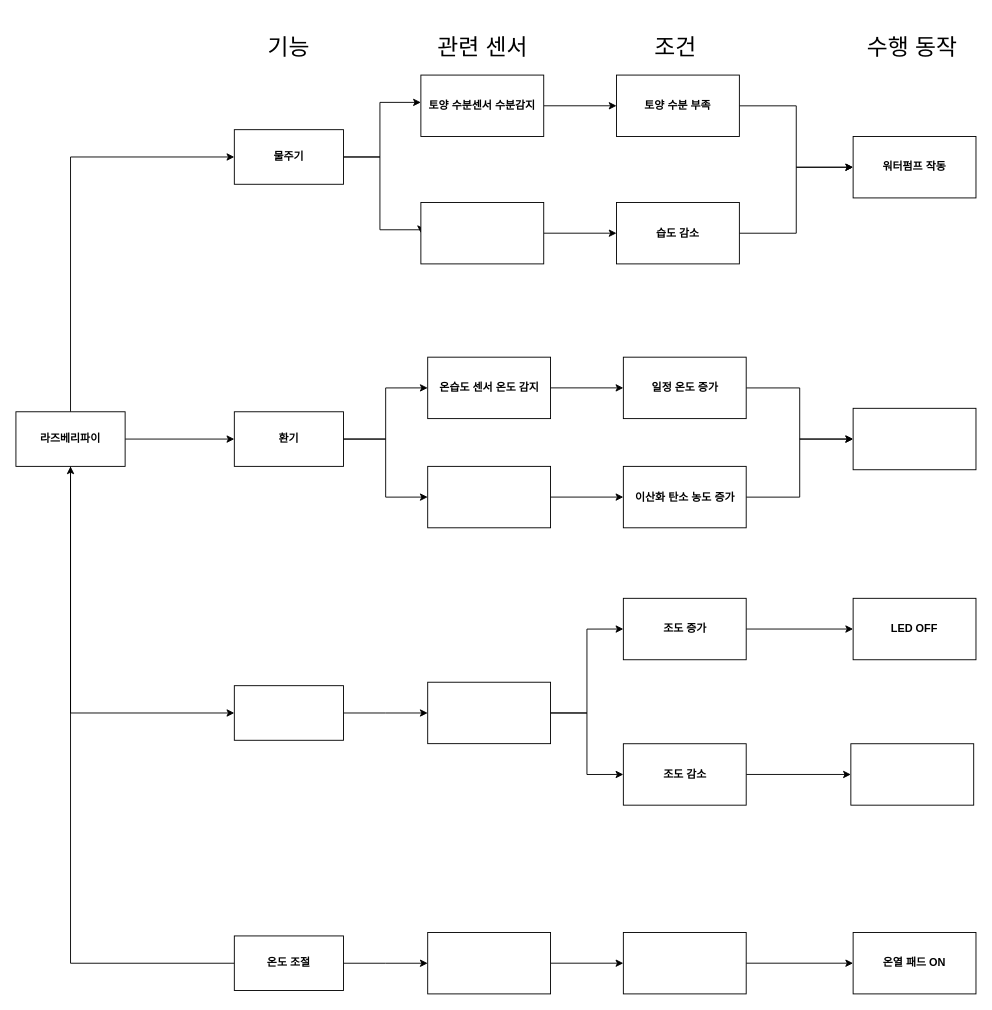
Image size: 992x1010. Some labels were removed from this diagram. Here are the shapes that lost their labels. From the top down, the centre of each, then its label:
At [482,233]: "온습도 센서 습도 감지".
At [914,438]: "쿨링 팬 작동".
At [489,496]: "이산화탄소 센서".
At [288,712]: "조명 켜기".
At [489,712]: "조도 센서".
At [912,774]: "LED ON".
At [489,963]: "온습도 센서".
At [684,963]: "온도 감소".
